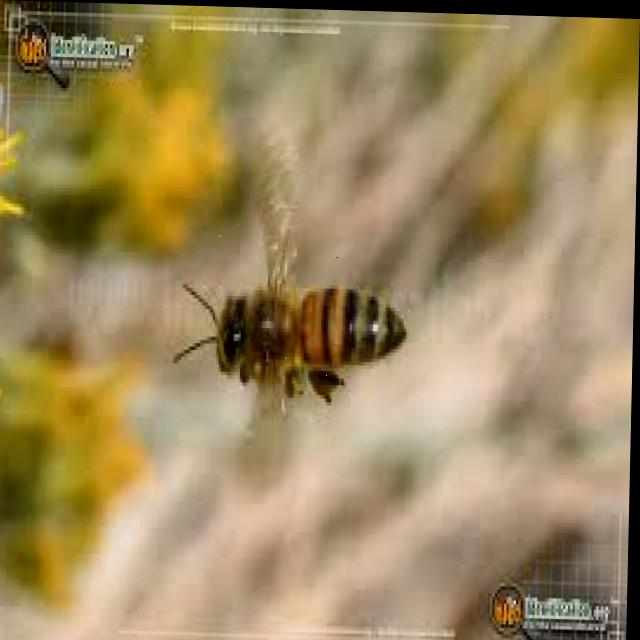Apis-mellifera-scutellata: (165, 232, 415, 456)
